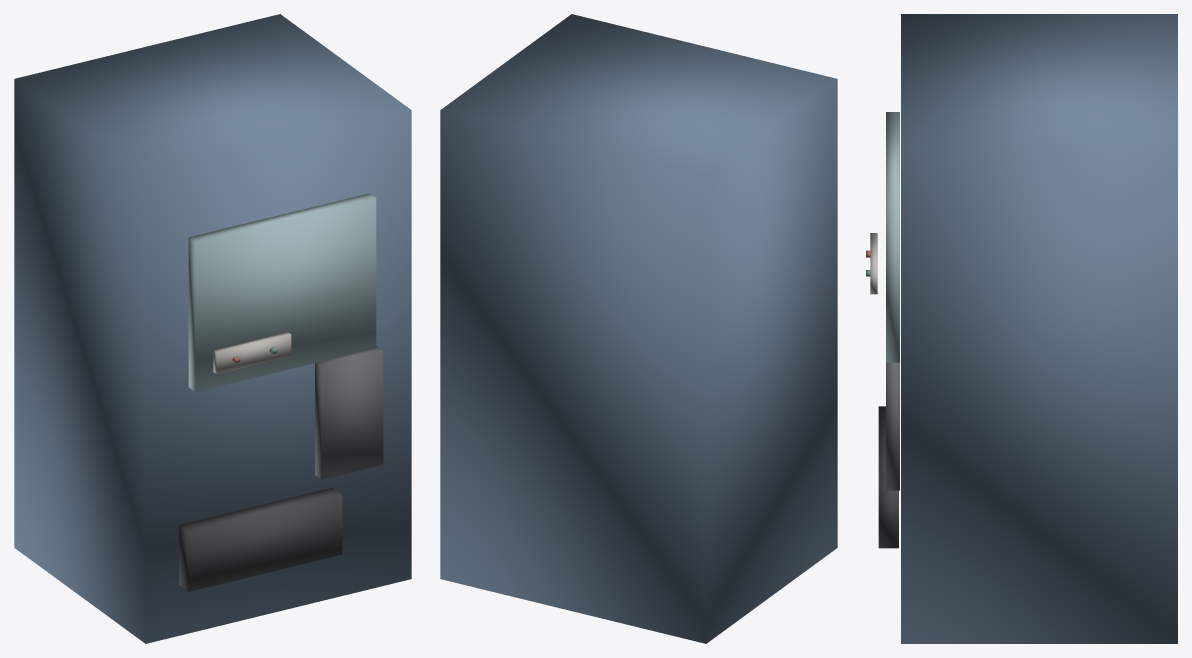
The model's file is drink_vending_machine__squat.glb.
3 renders of one model, left to right at view 1: azimuth 30°, elevation 25°; view 2: azimuth 150°, elevation 25°; view 3: azimuth 270°, elevation 25°, orthographic. The views are drawn at different scales.
Parts seen in each view (by area): view 1: world; view 2: world; view 3: world.
Part boxes in pixels (<box>): world: <box>14,14,411,643</box>; world: <box>440,14,837,643</box>; world: <box>866,14,1177,643</box>.
Bounding box in the file's own units: 0.858 × 1.44 × 0.8273.
